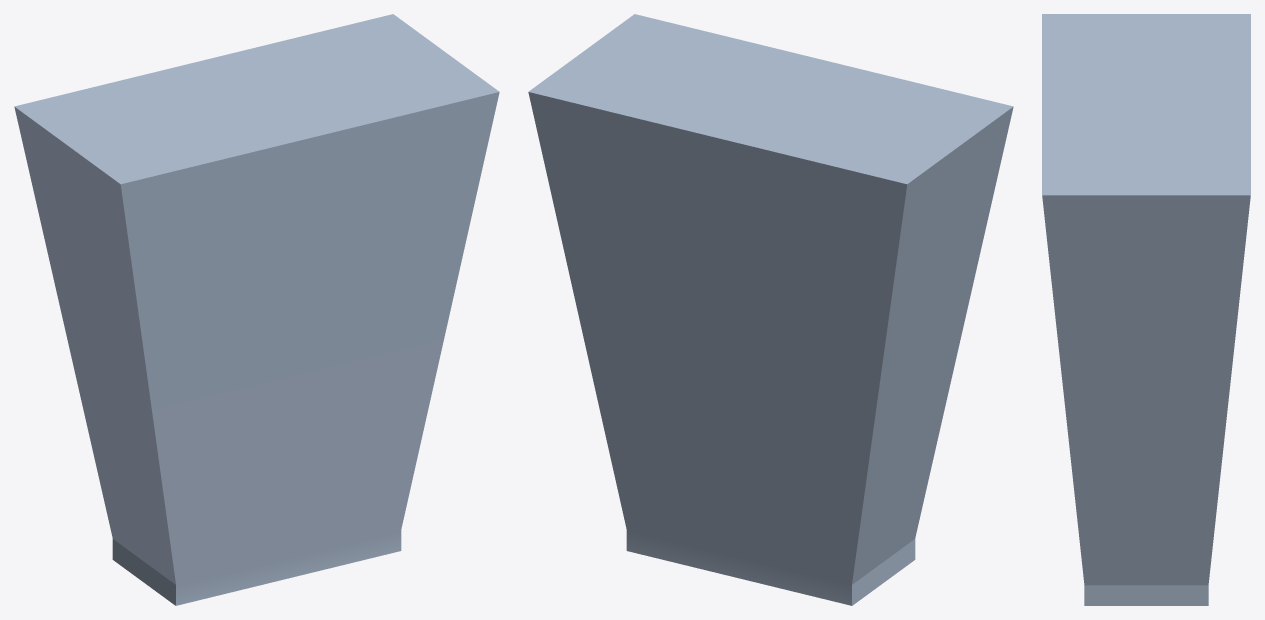
The model's file is shineplane 1.fbx.
3 views of the same model, side by side, from view 1: azimuth 30°, elevation 25°; view 2: azimuth 150°, elevation 25°; view 3: azimuth 270°, elevation 25° (orthographic).
Visible parts, largest first — view 1: pPlane1; view 2: pPlane1; view 3: pPlane1.
Part boxes in pixels (left/top/right/bottom): pPlane1: left=14, top=14, right=499, bottom=605; pPlane1: left=528, top=14, right=1013, bottom=605; pPlane1: left=1042, top=14, right=1250, bottom=605.
Size of the model in its own units: 2.72 by 3.13 by 1.32.
